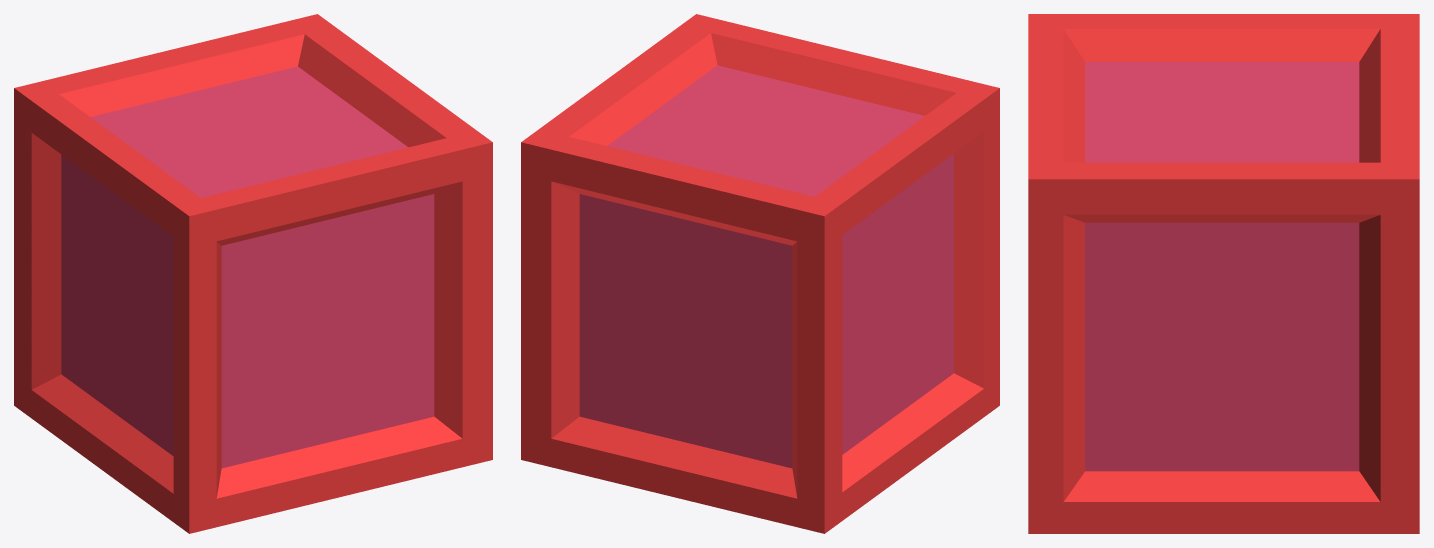
File: core.fbx
The picture shows the model from 3 angles, left to right: view 1: azimuth 30°, elevation 25°; view 2: azimuth 150°, elevation 25°; view 3: azimuth 270°, elevation 25°; orthographic projection. The views are drawn at different scales.
Parts seen in each view (by area): view 1: core; view 2: core; view 3: core.
Part boxes in pixels (x1,y1,x2,y2): core: (14, 14, 492, 533); core: (521, 14, 999, 533); core: (1028, 14, 1419, 533).
Size of the model in its own units: 1.16 by 1.16 by 1.16.
